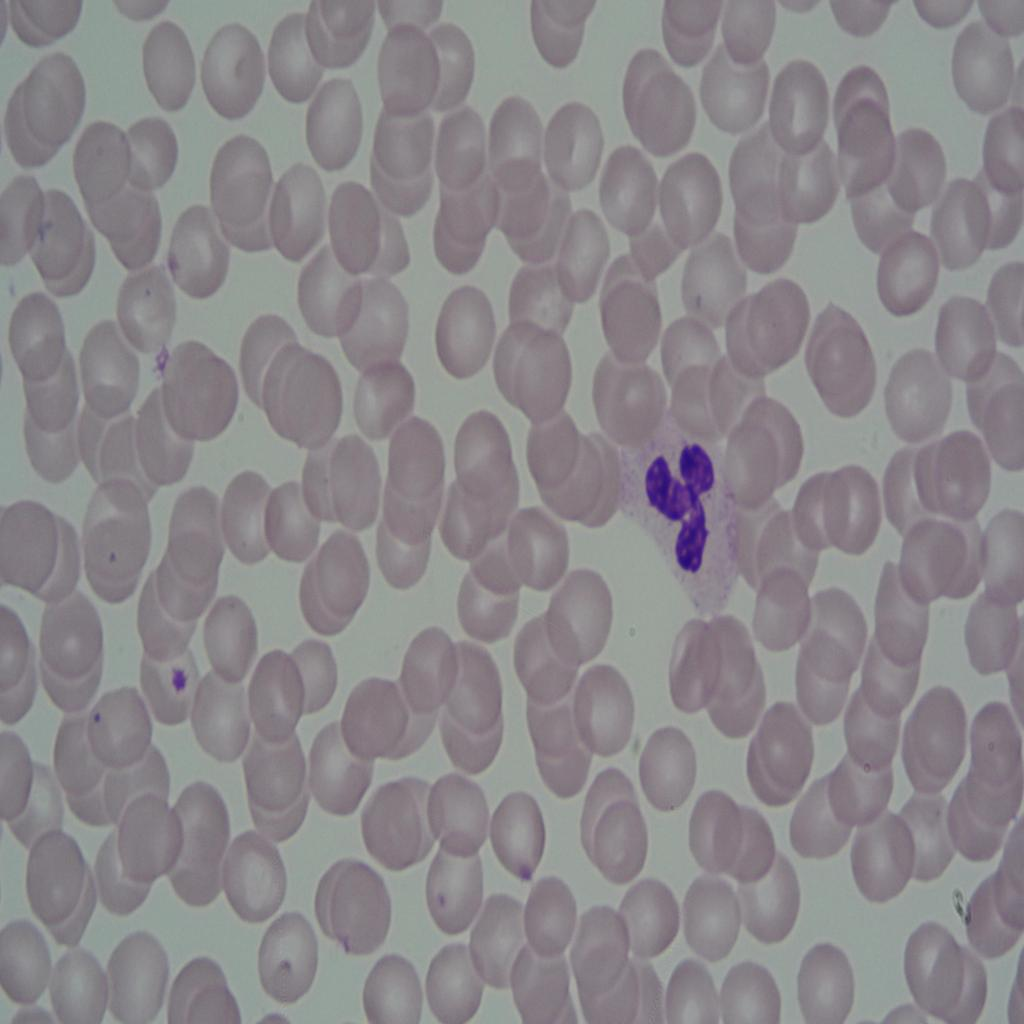Neutrofil: (624, 404, 732, 599)
Platelet: (169, 666, 193, 702)
